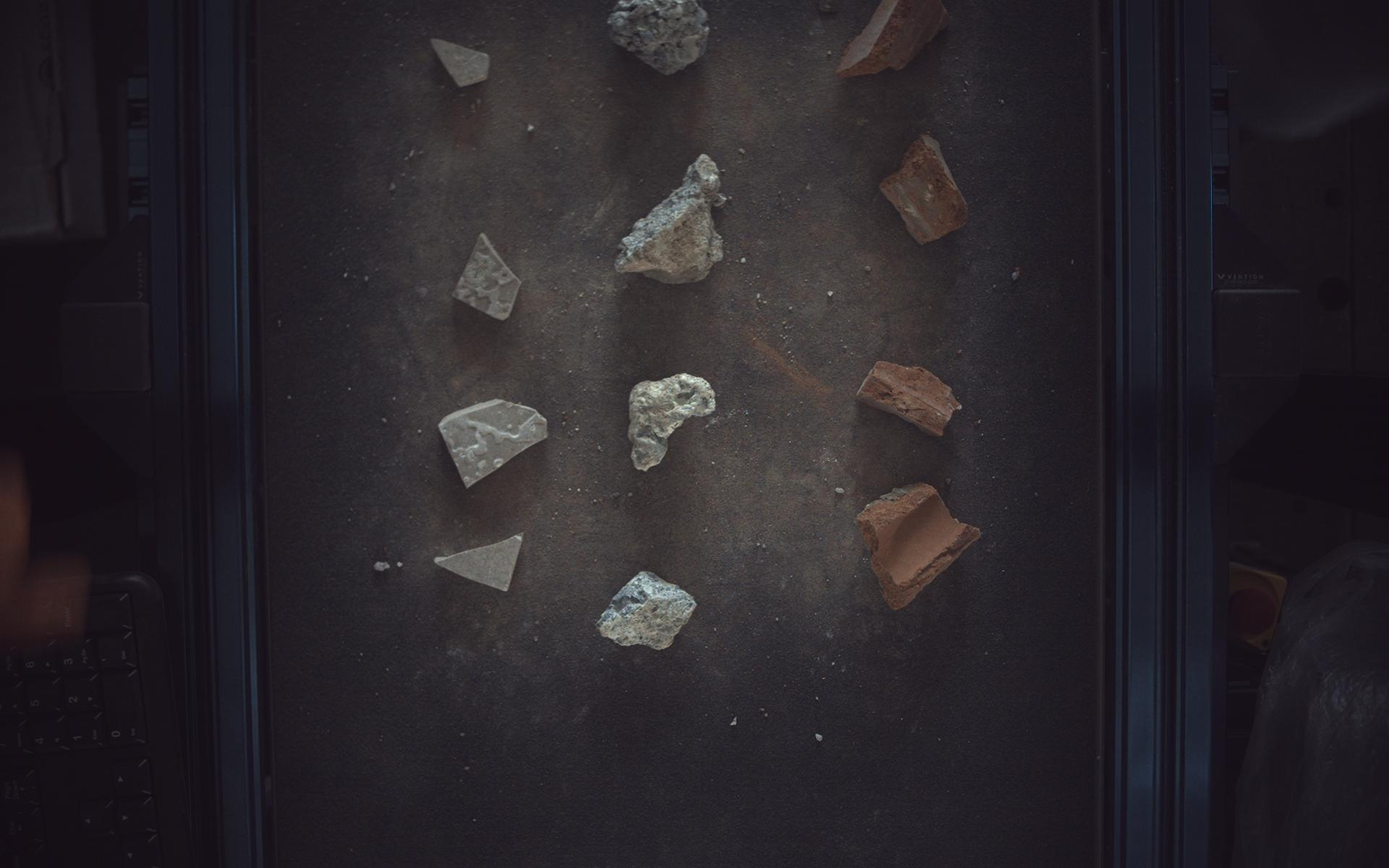brick: (859, 483, 983, 610), (880, 132, 970, 244), (838, 1, 951, 76), (858, 361, 963, 436)
concrete: (616, 153, 728, 284), (629, 373, 716, 472), (598, 571, 698, 651), (608, 1, 710, 74)
tile: (438, 399, 547, 488), (452, 232, 521, 320), (435, 535, 522, 592), (431, 37, 490, 85)
